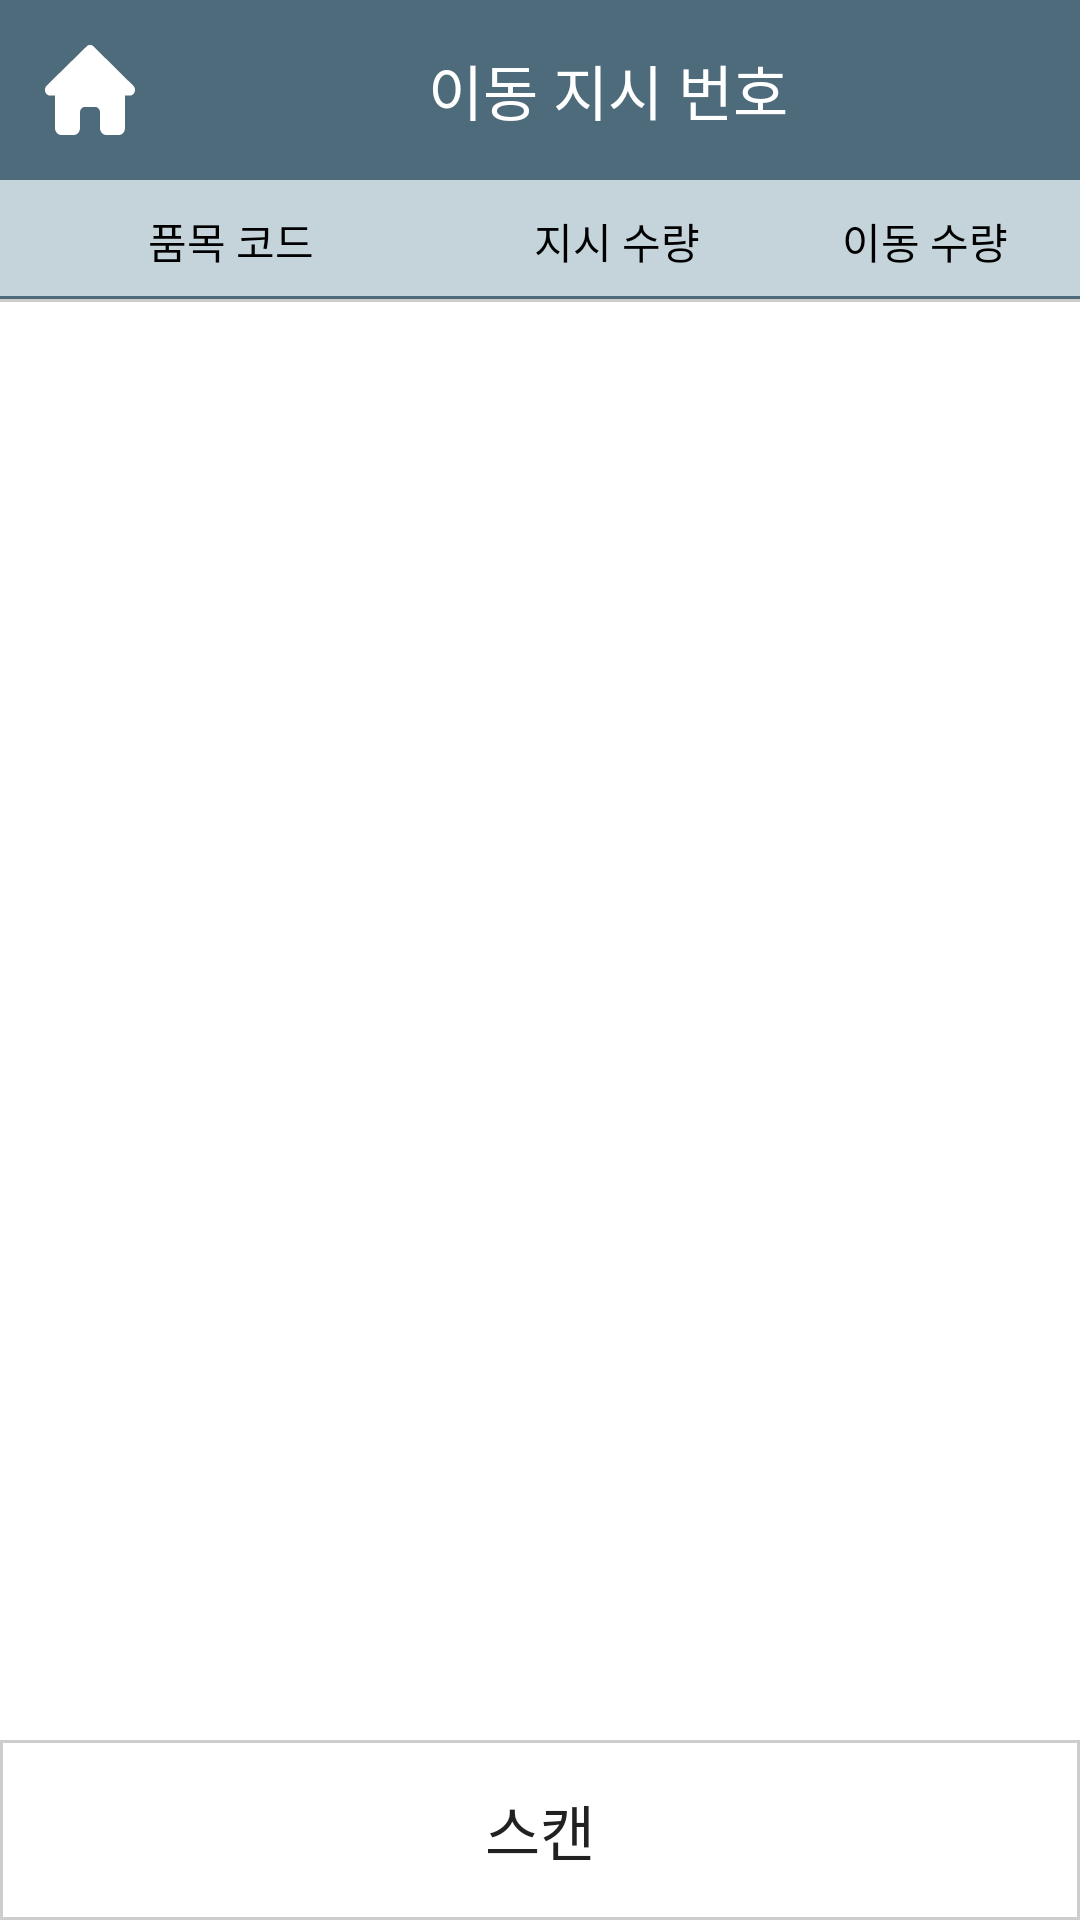

Icons on this 1080px x 1920px Android screen, each with the point to tap as (x=x, y=y):
house: (x=90, y=90)
